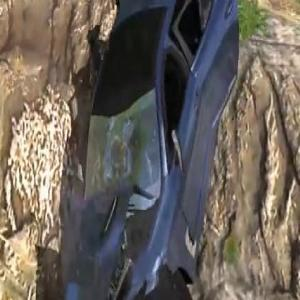critical: (30, 0, 245, 300)
